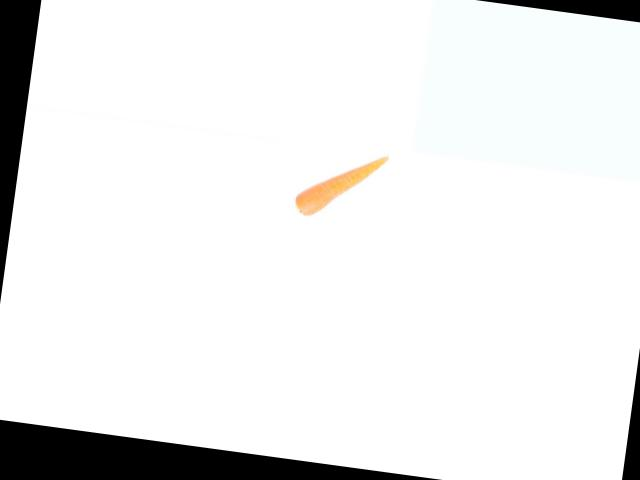carrot: (292, 139, 394, 227)
